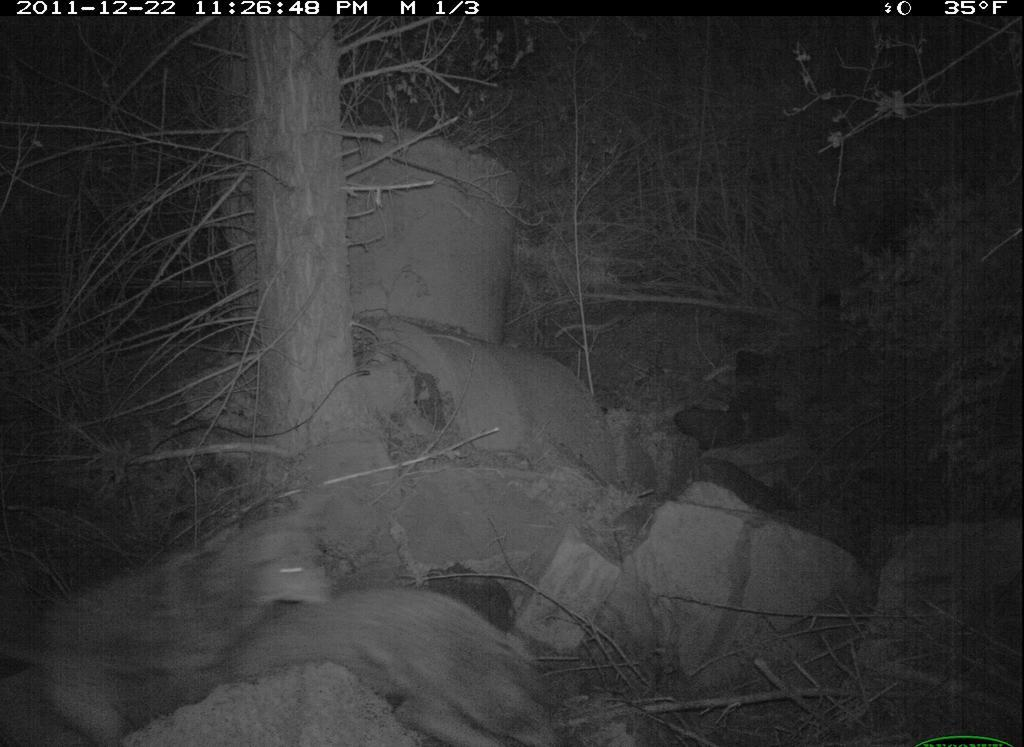coyote: (31, 493, 367, 739)
